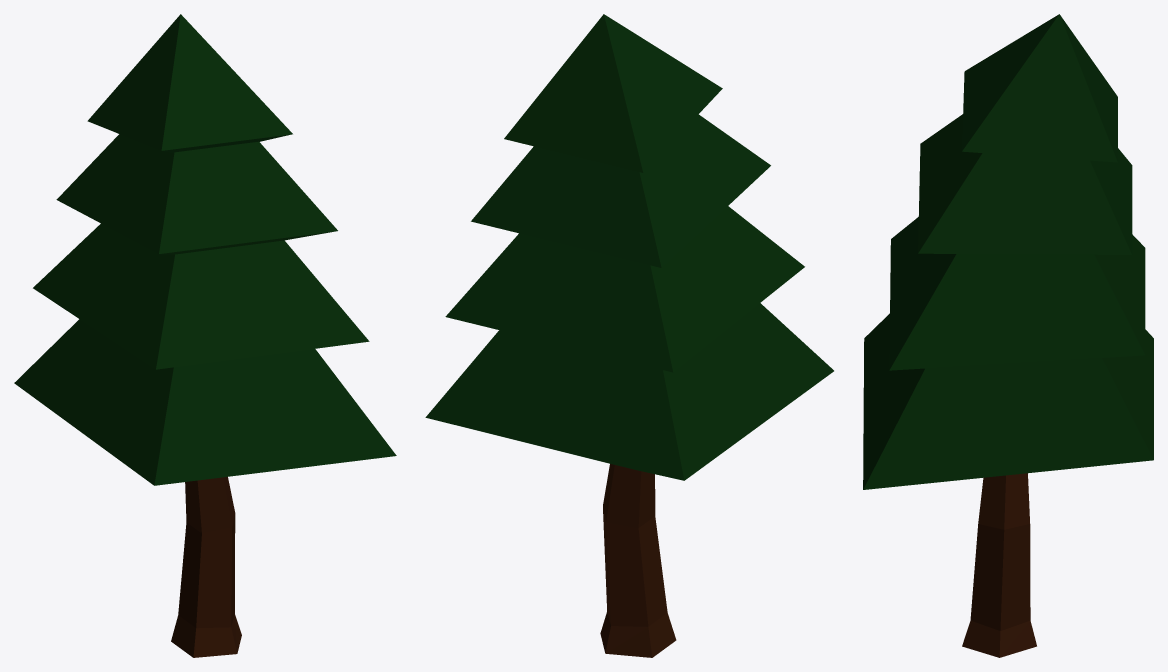
File: FinalPine.FBX
3 renders of one model, left to right at view 1: azimuth 30°, elevation 25°; view 2: azimuth 150°, elevation 25°; view 3: azimuth 270°, elevation 25°, orthographic. The views are drawn at different scales.
Visible parts, largest first — view 1: Hedra006; view 2: Hedra006; view 3: Hedra006.
Boxes of the visible parts, left/top/right/bottom form: Hedra006: left=14, top=14, right=396, bottom=657; Hedra006: left=425, top=14, right=833, bottom=657; Hedra006: left=863, top=14, right=1153, bottom=657.
Size of the model in its own units: 59.58 by 143 by 60.03.
